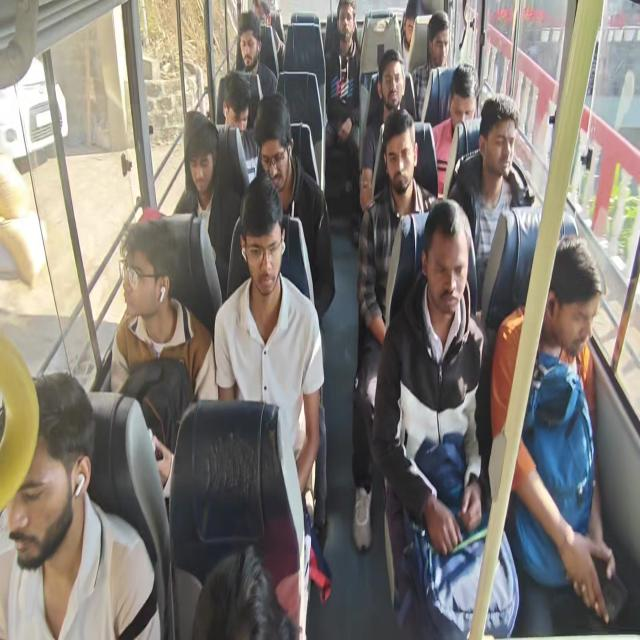person: (2, 1, 620, 638), (370, 198, 520, 638), (490, 235, 616, 633), (0, 371, 162, 639), (213, 174, 325, 524), (351, 108, 439, 552), (110, 208, 218, 501), (253, 92, 335, 326), (447, 93, 524, 315), (175, 118, 241, 300), (191, 544, 299, 639), (359, 48, 407, 213), (324, 0, 361, 196), (431, 63, 480, 199), (216, 71, 260, 194), (233, 10, 278, 128), (410, 11, 452, 121), (252, 0, 285, 77), (400, 0, 423, 74)
